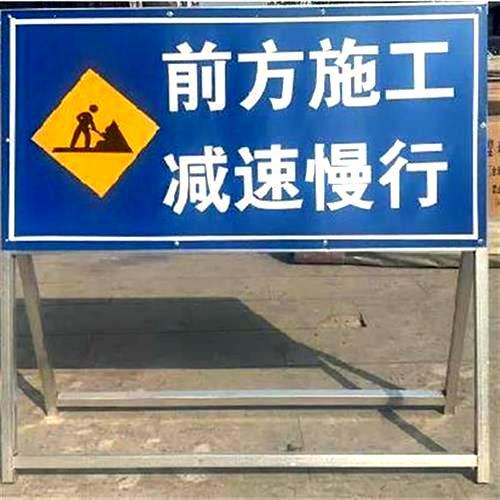sign: (6, 13, 484, 248)
